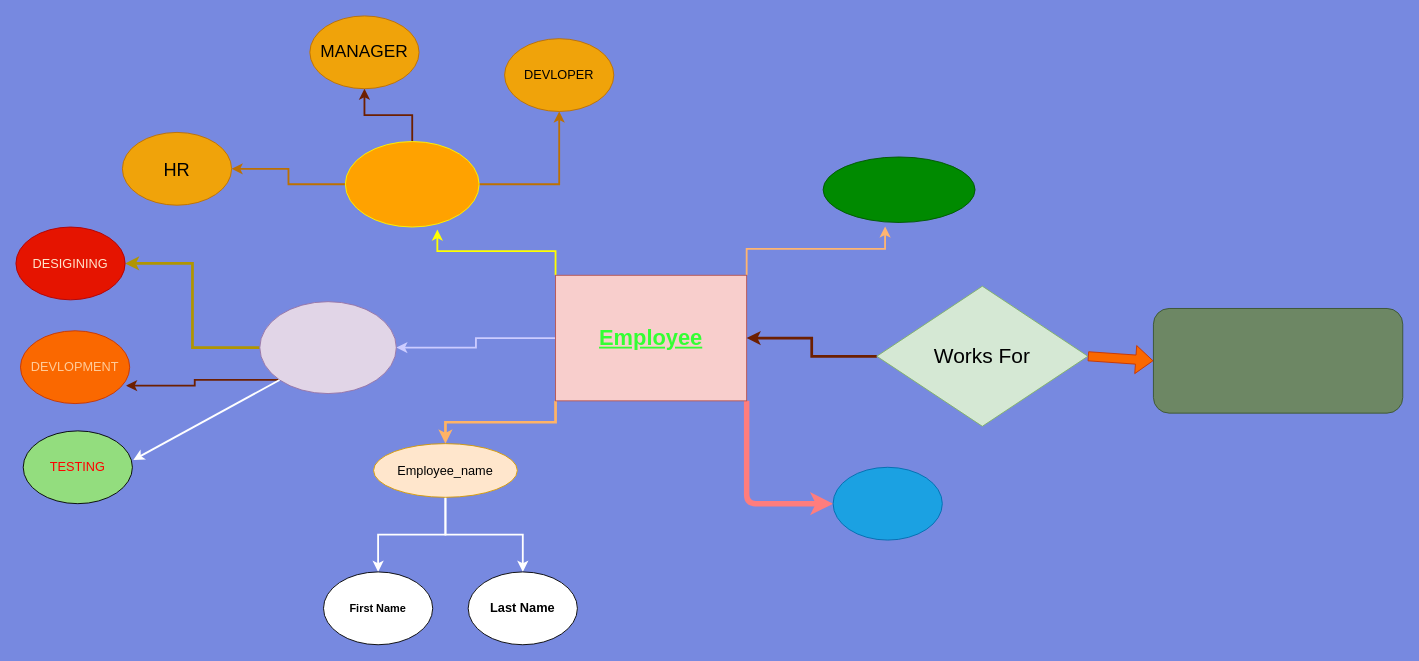
Image size: 1419x661. Some labels were removed from this diagram. The centre of each missing label's shape, as x and y in pixels:
"Department" belongs at [327,347].
"Employee_id" belongs at [887,503].
"IT COMPANY" belongs at [1278,360].
"Role" belongs at [411,184].
"Salary" belongs at [898,189].
